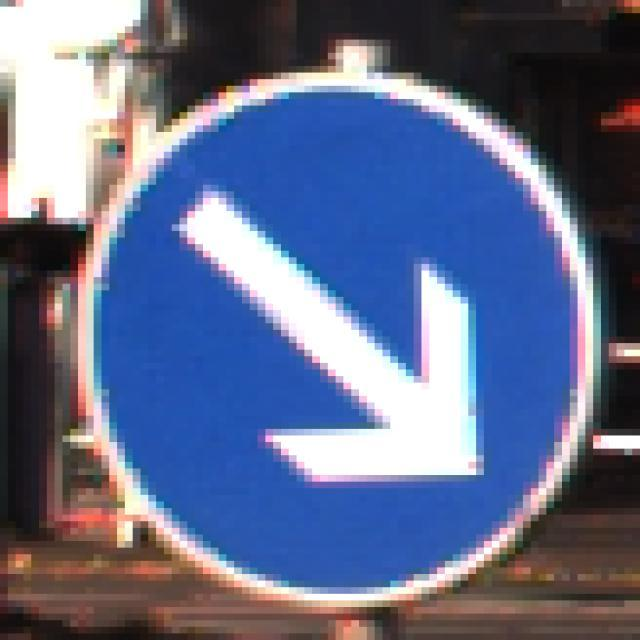compulsary keep right: (76, 64, 585, 582)
